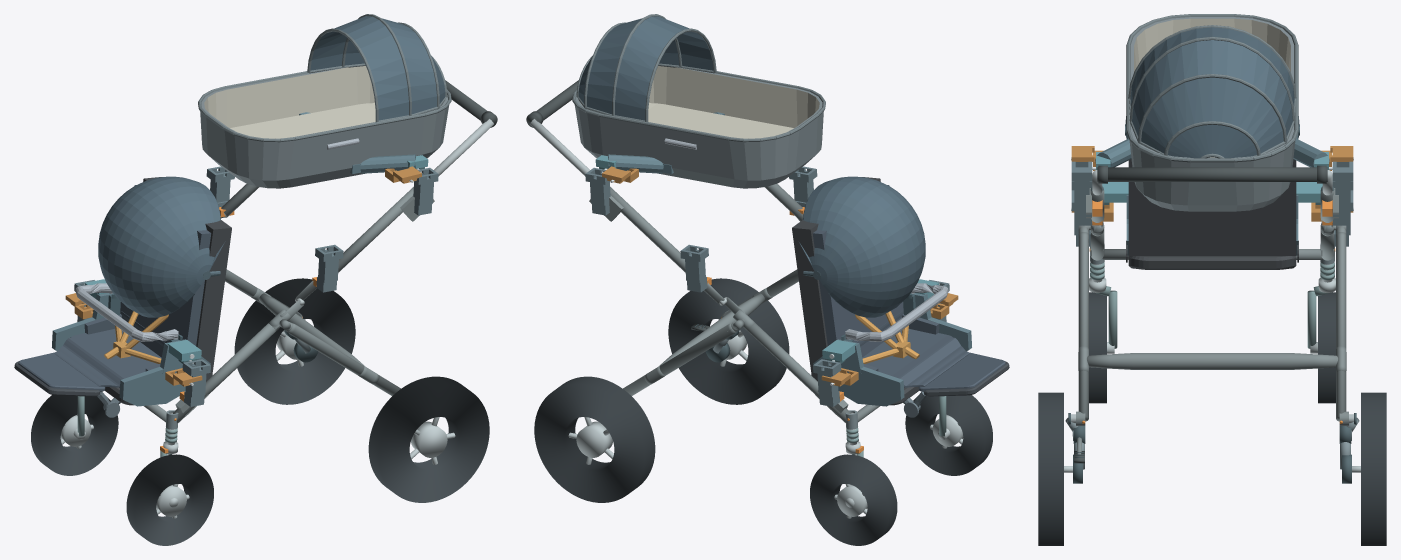
The model's file is D05_w650_state1_wheel_L.glb.
The picture shows the model from 3 angles, left to right: view 1: azimuth 30°, elevation 25°; view 2: azimuth 150°, elevation 25°; view 3: azimuth 270°, elevation 25°; orthographic projection. The views are drawn at different scales.
Parts seen in each view (by area): view 1: D05_Upper, D05_Lower, RL_tire.008, RR_tire.008, FL_tire.008, FR_tire.008, D05_Lower_Mount_L, V46_rear_leg_-1.009, main_lower_-1.009, main_upper_-1.009, D05_Upper_Mount_H, Universal_Cabin_Receiver_M_-1 (+8 smaller); view 2: D05_Upper, D05_Lower, RR_tire.008, RL_tire.008, FR_tire.008, FL_tire.008, D05_Lower_Mount_L, V46_rear_leg_1.009, main_lower_1.009, main_upper_1.009, D05_Upper_Mount_H, Universal_Cabin_Receiver_M_1 (+8 smaller); view 3: D05_Upper, D05_Lower, V46_rearbar.009, RL_tire.008, RR_tire.008, round_handle.008, FL_tire.008, FR_tire.008, V46_rear_leg_1.009, V46_rear_leg_-1.009, D05_Upper_Mount_H, D05_Lower_Mount_L (+7 smaller).
Boxes of the visible parts, x1,y1,x2,y2 form: D05_Upper: (198, 14, 451, 188); D05_Lower: (14, 176, 231, 417); RL_tire.008: (368, 376, 489, 502); RR_tire.008: (234, 278, 355, 404); FL_tire.008: (126, 454, 213, 545); FR_tire.008: (31, 395, 118, 475); D05_Lower_Mount_L: (52, 279, 210, 406); V46_rear_leg_-1.009: (287, 323, 400, 395); main_lower_-1.009: (173, 323, 279, 423); main_upper_-1.009: (338, 186, 413, 272); D05_Upper_Mount_H: (299, 112, 428, 174); Universal_Cabin_Receiver_M_-1: (315, 244, 343, 292); D05_Upper: (572, 14, 825, 188); D05_Lower: (792, 176, 1009, 417); RR_tire.008: (534, 376, 655, 502); RL_tire.008: (668, 278, 789, 404); FR_tire.008: (810, 454, 897, 545); FL_tire.008: (905, 395, 992, 475); D05_Lower_Mount_L: (813, 279, 971, 406); V46_rear_leg_1.009: (623, 323, 736, 395); main_lower_1.009: (744, 323, 850, 423); main_upper_1.009: (610, 186, 685, 272); D05_Upper_Mount_H: (595, 112, 724, 174); Universal_Cabin_Receiver_M_1: (680, 244, 708, 292); D05_Upper: (1126, 14, 1298, 211); D05_Lower: (1125, 116, 1299, 269); V46_rearbar.009: (1087, 353, 1337, 369); RL_tire.008: (1038, 392, 1063, 545); RR_tire.008: (1361, 392, 1386, 545); round_handle.008: (1097, 167, 1327, 181); FL_tire.008: (1089, 292, 1106, 403); FR_tire.008: (1318, 292, 1335, 403); V46_rear_leg_1.009: (1336, 232, 1346, 421); V46_rear_leg_-1.009: (1078, 232, 1088, 421); D05_Upper_Mount_H: (1092, 138, 1332, 169); D05_Lower_Mount_L: (1102, 182, 1322, 255).
Bounding box in the file's own units: 1.37 × 1.33 × 0.8171.
